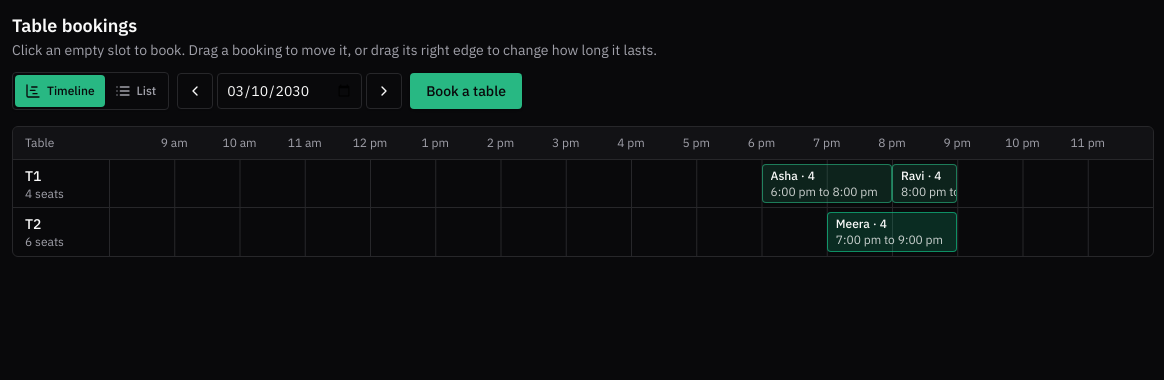
Test: table bookings › switches to a list of the day, in time order, and back
The image size is (1164, 380).
Click the button "List".
click(135, 91)  # box [105, 75, 166, 107]
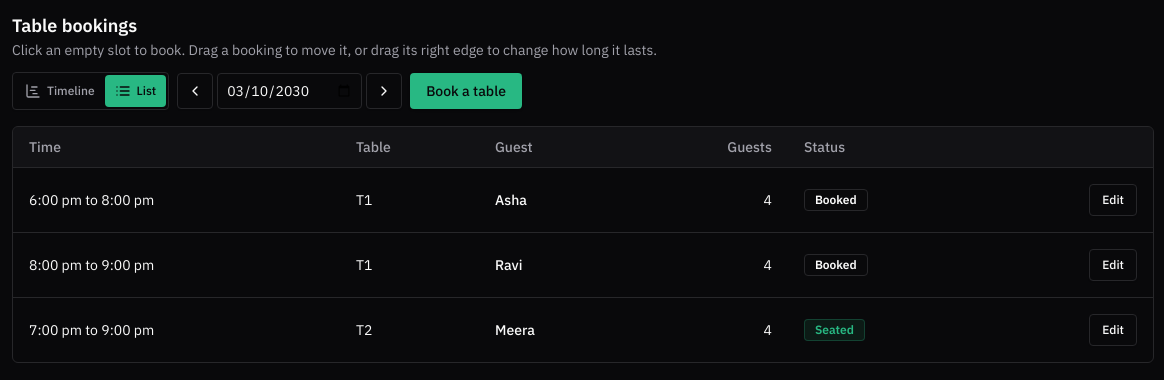
Check: the row "6:00 pm to 8:00 pm T1 Asha 4 Booked Edit" is shown, box [13, 167, 1153, 232]
Check: the row "7:00 pm to 9:00 pm T2 Meera 4 Seated Edit" is shown, box [13, 297, 1153, 362]
Click the button "Timeline".
click(60, 91)  # box [15, 75, 105, 107]
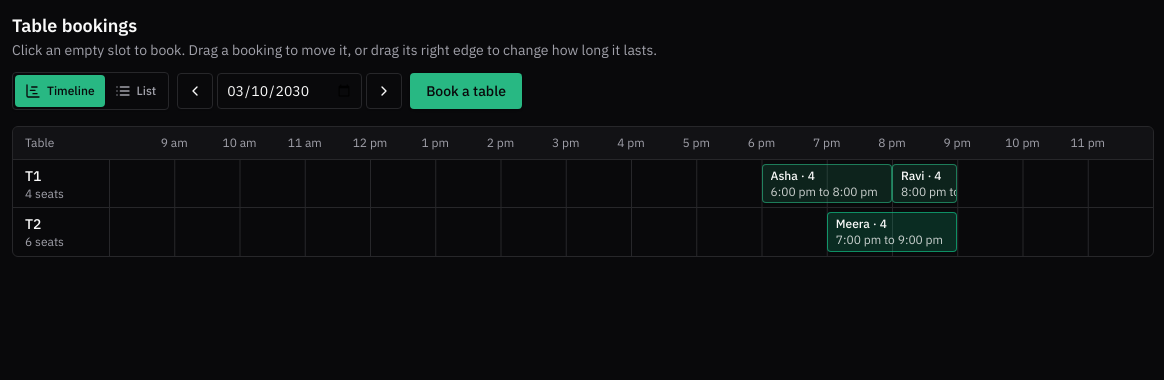
Check: the element with test id "track-T1" is shown, box [109, 160, 1153, 207]
